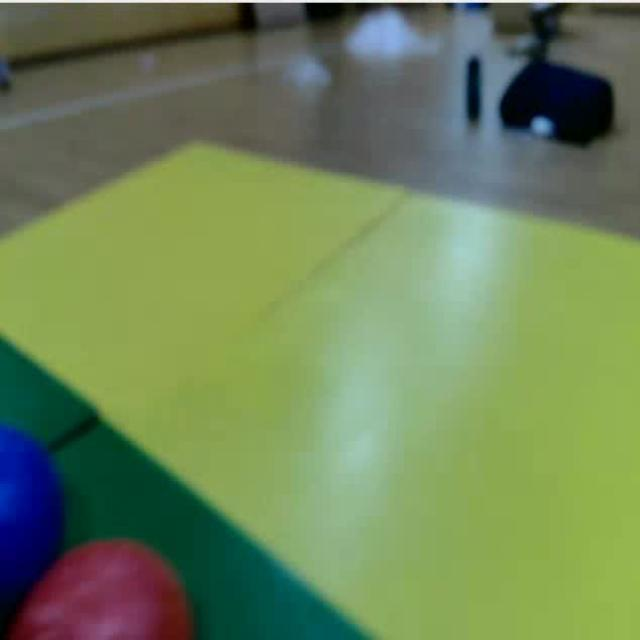blue_ball: (0, 422, 69, 560)
red_ball: (60, 538, 194, 640)
